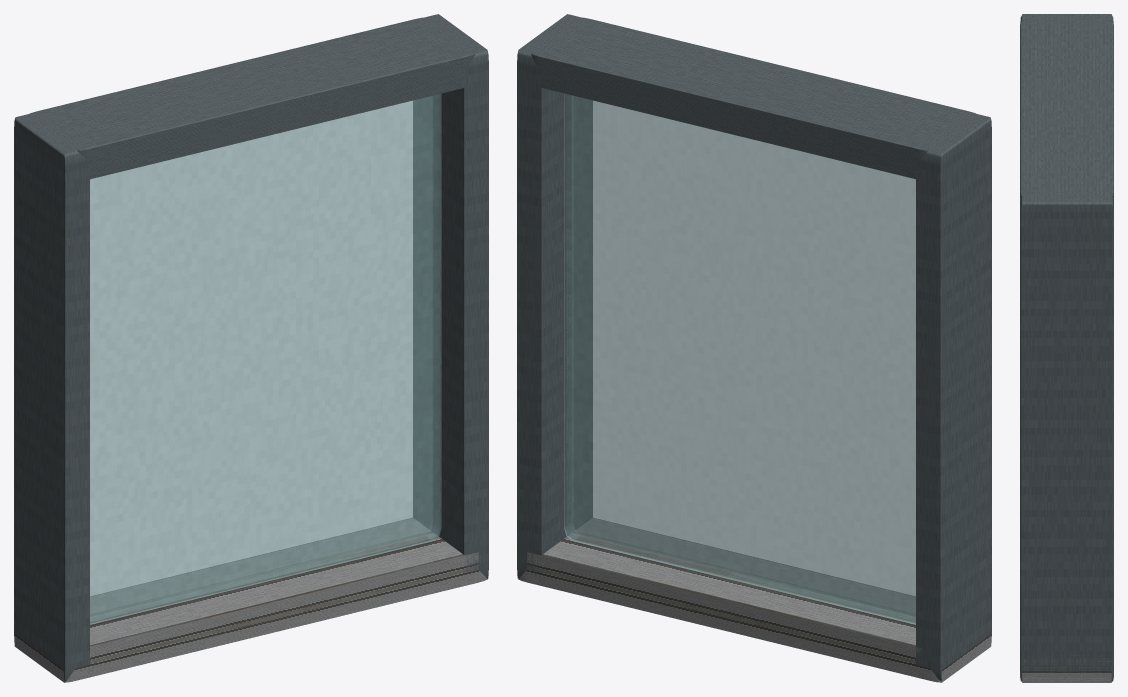
The model's file is mirror-cab.glb.
3 views of the same model, side by side, from view 1: azimuth 30°, elevation 25°; view 2: azimuth 150°, elevation 25°; view 3: azimuth 270°, elevation 25° (orthographic). The views are drawn at different scales.
Parts seen in each view (by area): view 1: glazing, jamb (×2), head, sill; view 2: glazing, jamb (×2), head, sill; view 3: jamb (×2), head, sill.
Part boxes in pixels (x1,y1,x2,y2): glazing: (90, 93, 441, 624); jamb (×2): (14, 14, 488, 682); head: (30, 17, 474, 179); sill: (14, 518, 488, 682); glazing: (564, 93, 915, 624); jamb (×2): (517, 14, 991, 682); head: (531, 17, 975, 179); sill: (517, 518, 991, 682); jamb (×2): (1020, 14, 1113, 682); head: (1020, 20, 1113, 203); sill: (1020, 655, 1113, 682).
Size of the model in its own units: 0.57 by 0.68 by 0.12.
Materials: 3 (3 with a texture image).
